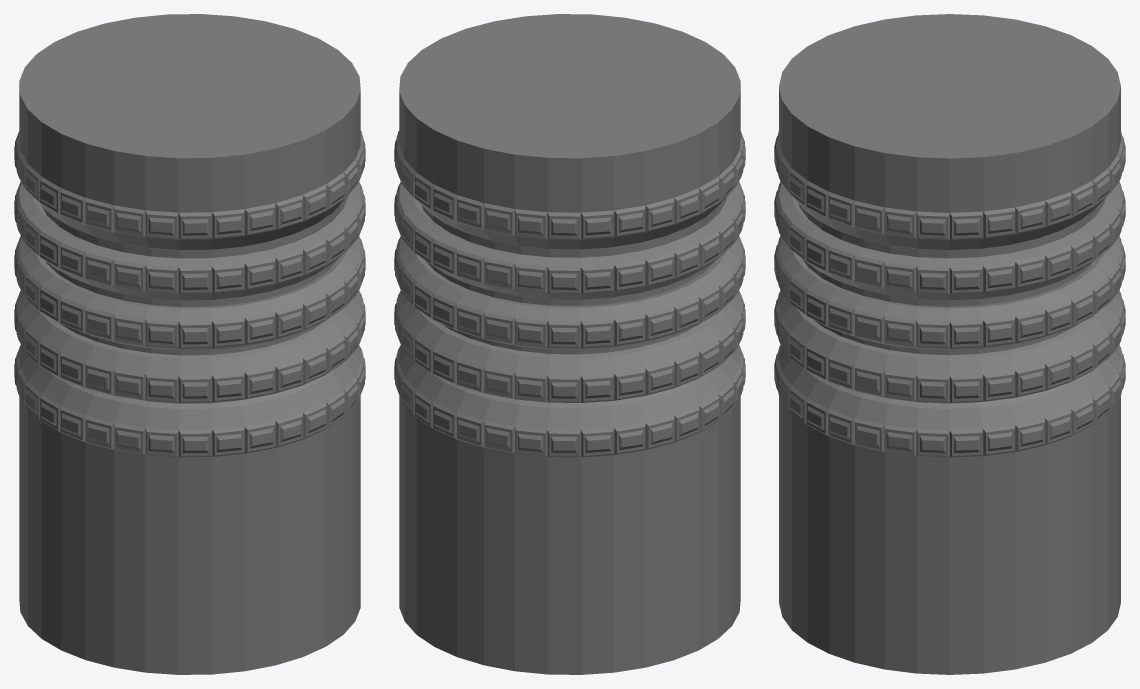
The model's file is BunkerDecoration.fbx.
3 views of the same model, side by side, from view 1: azimuth 30°, elevation 25°; view 2: azimuth 150°, elevation 25°; view 3: azimuth 270°, elevation 25° (orthographic).
Parts seen in each view (by area): view 1: Decoration1; view 2: Decoration1; view 3: Decoration1.
Boxes of the visible parts, x1,y1,x2,y2 form: Decoration1: (14, 14, 365, 674); Decoration1: (394, 14, 745, 674); Decoration1: (774, 14, 1125, 674).
Bounding box in the file's own units: 2053 × 3330 × 2053.
